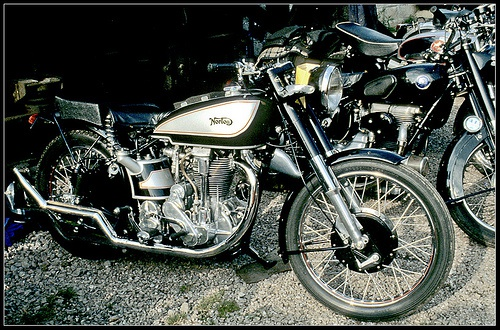non-vehicle: (5, 41, 455, 318), (314, 19, 499, 242)
